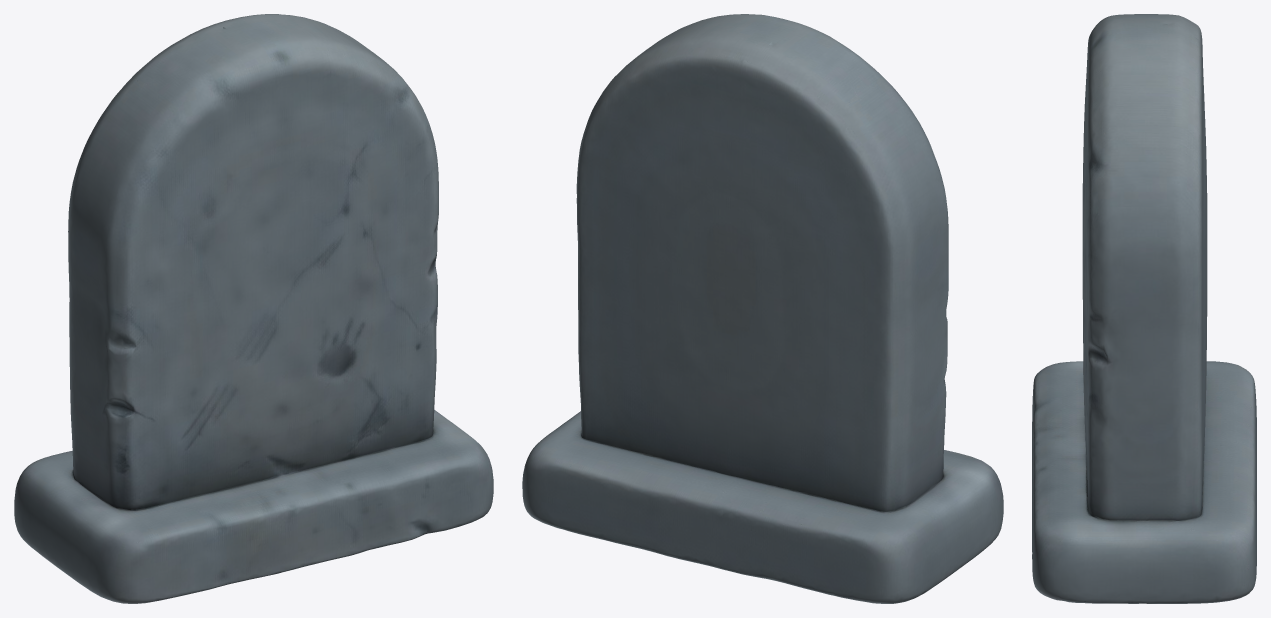
Rendered from gravestone.glb.
3 renders of one model, left to right at view 1: azimuth 30°, elevation 25°; view 2: azimuth 150°, elevation 25°; view 3: azimuth 270°, elevation 25°, orthographic. The views are drawn at different scales.
Parts seen in each view (by area): view 1: Mesh; view 2: Mesh; view 3: Mesh.
Boxes of the visible parts, x1,y1,x2,y2 form: Mesh: [14, 14, 493, 603]; Mesh: [522, 14, 1003, 603]; Mesh: [1032, 14, 1256, 603].
Size of the model in its own units: 1.58 by 1.9 by 0.8003.
Materials: 1 (1 with a texture image).
